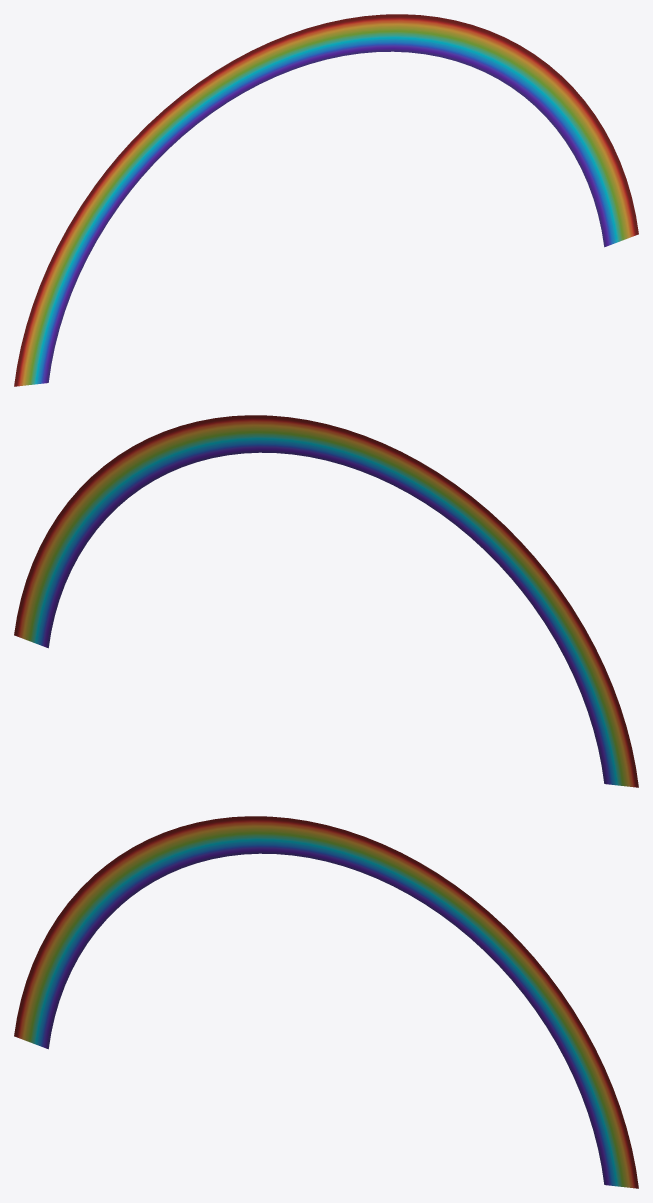
File: P_Rainbow.obj
The picture shows the model from 3 angles, top to bottom: view 1: azimuth 30°, elevation 25°; view 2: azimuth 150°, elevation 25°; view 3: azimuth 330°, elevation 25°; orthographic projection.
Size of the model in its own units: 67.42 by 30.13 by 2.27e-05.
